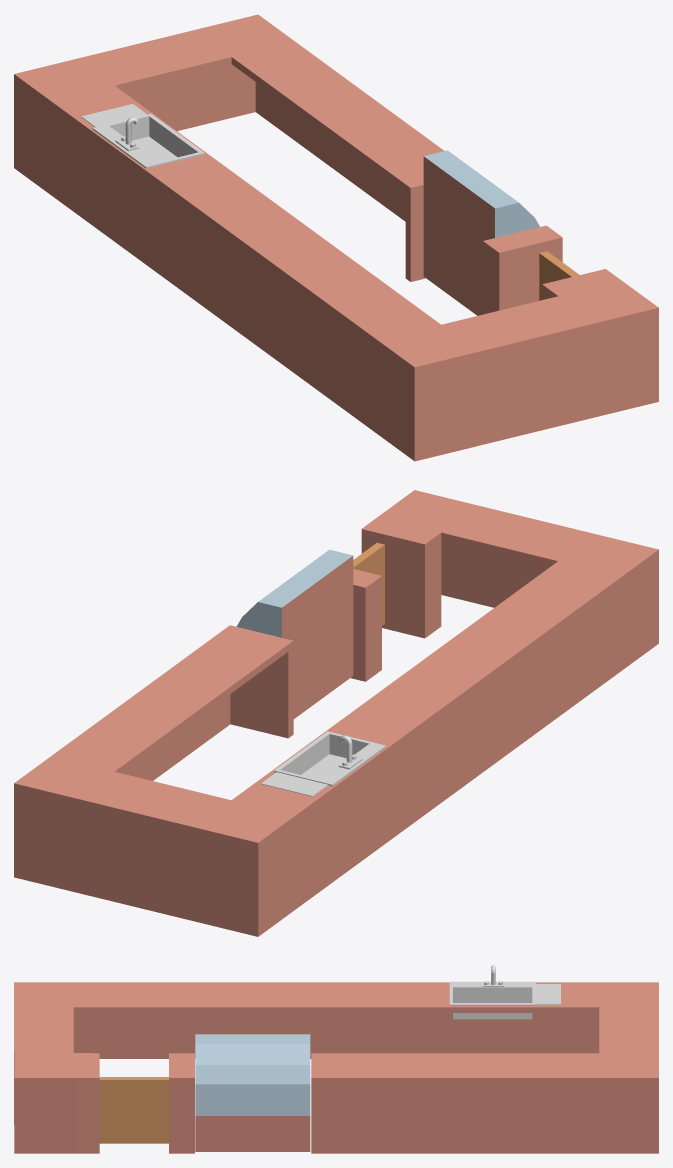
Rendered from Counter.fbx.
3 views of the same model, one above another, from view 1: azimuth 30°, elevation 25°; view 2: azimuth 150°, elevation 25°; view 3: azimuth 270°, elevation 25° (orthographic). The views are drawn at different scales.
Visible parts, largest first — view 1: Counterspace; view 2: Counterspace; view 3: Counterspace.
Boxes of the visible parts, x1,y1,x2,y2 form: Counterspace: (14, 14, 658, 461); Counterspace: (14, 490, 658, 936); Counterspace: (14, 965, 658, 1153).
Bounding box in the file's own units: 283 × 136 × 797.
